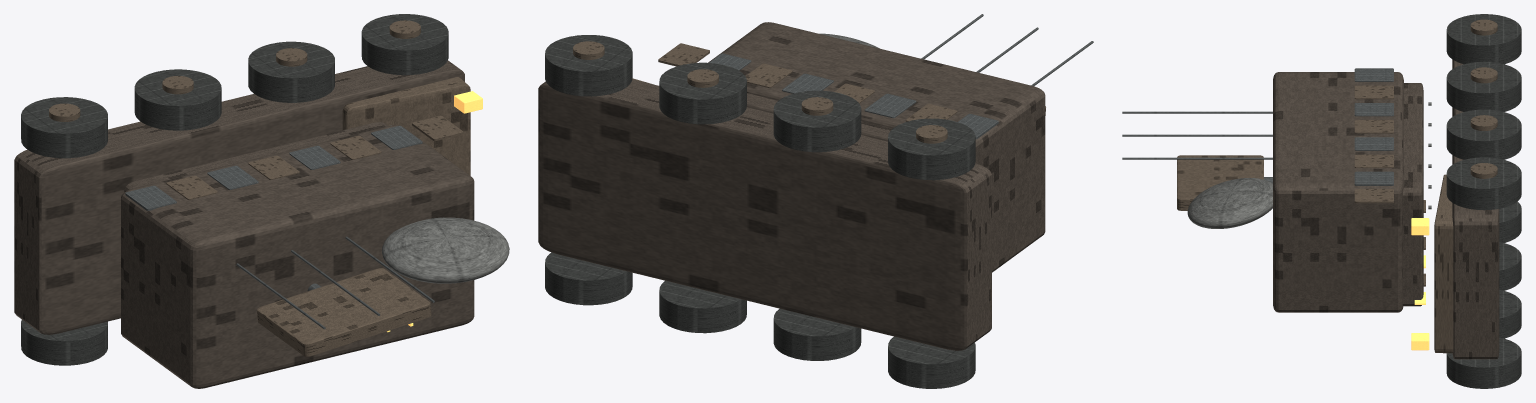
The model's file is d-u21-dominion-command-vehicle-lod0.glb.
3 views of the same model, side by side, from view 1: azimuth 30°, elevation 25°; view 2: azimuth 150°, elevation 25°; view 3: azimuth 270°, elevation 25° (orthographic). The views are drawn at different scales.
Parts seen in each view (by area): view 1: command_body, chassis_lower, command_array_array, command_dish, chassis_nose, chassis_wheel_1_1, chassis_wheel_1_3, chassis_wheel_1_0, chassis_wheel_1_2, chassis_wheel_-1_0, upper_hull, service_hatch_7 (+12 smaller); view 2: chassis_lower, command_body, chassis_wheel_1_1, chassis_wheel_1_2, chassis_wheel_1_0, chassis_wheel_1_3, chassis_wheel_-1_0, chassis_wheel_-1_1, chassis_wheel_-1_3, chassis_wheel_-1_2, upper_hull, service_hatch_2 (+9 smaller); view 3: command_body, chassis_lower, upper_hull, command_dish, chassis_wheel_1_3, chassis_nose, chassis_wheel_1_2, chassis_wheel_1_0, chassis_wheel_1_1, command_array_array, chassis_wheel_-1_3, chassis_wheel_-1_1 (+17 smaller).
Part boxes in pixels (x1=…): command_body: x1=121, y1=125, x2=474, y2=388; chassis_lower: x1=14, y1=60, x2=464, y2=334; command_array_array: x1=257, y1=268, x2=431, y2=356; command_dish: x1=382, y1=217, x2=509, y2=283; chassis_nose: x1=342, y1=77, x2=470, y2=175; chassis_wheel_1_1: x1=134, y1=69, x2=221, y2=130; chassis_wheel_1_3: x1=361, y1=14, x2=448, y2=75; chassis_wheel_1_0: x1=21, y1=97, x2=107, y2=158; chassis_wheel_1_2: x1=248, y1=41, x2=334, y2=102; chassis_wheel_-1_0: x1=21, y1=320, x2=107, y2=365; upper_hull: x1=124, y1=122, x2=388, y2=192; service_hatch_7: x1=412, y1=115, x2=463, y2=141; chassis_lower: x1=538, y1=79, x2=991, y2=350; command_body: x1=708, y1=22, x2=1045, y2=272; chassis_wheel_1_1: x1=773, y1=90, x2=861, y2=152; chassis_wheel_1_2: x1=659, y1=62, x2=746, y2=124; chassis_wheel_1_0: x1=888, y1=118, x2=975, y2=180; chassis_wheel_1_3: x1=545, y1=35, x2=632, y2=96; chassis_wheel_-1_0: x1=888, y1=336, x2=975, y2=388; chassis_wheel_-1_1: x1=773, y1=308, x2=861, y2=360; chassis_wheel_-1_3: x1=545, y1=252, x2=632, y2=305; chassis_wheel_-1_2: x1=659, y1=280, x2=746, y2=333; upper_hull: x1=746, y1=93, x2=892, y2=141; service_hatch_2: x1=864, y1=93, x2=916, y2=118; command_body: x1=1273, y1=72, x2=1403, y2=312; chassis_lower: x1=1452, y1=59, x2=1499, y2=359; upper_hull: x1=1402, y1=83, x2=1423, y2=306; command_dish: x1=1187, y1=178, x2=1272, y2=228; chassis_wheel_1_3: x1=1446, y1=157, x2=1521, y2=210; chassis_nose: x1=1434, y1=174, x2=1453, y2=353; chassis_wheel_1_2: x1=1446, y1=109, x2=1521, y2=159; chassis_wheel_1_0: x1=1446, y1=14, x2=1521, y2=64; chassis_wheel_1_1: x1=1446, y1=61, x2=1521, y2=111; command_array_array: x1=1177, y1=155, x2=1263, y2=210; chassis_wheel_-1_3: x1=1446, y1=337, x2=1521, y2=388; chassis_wheel_-1_1: x1=1499, y1=242, x2=1521, y2=290.
Size of what is drawn, in the model's own units: 6.92 by 3.77 by 6.52.
7 materials, 7 textured.
